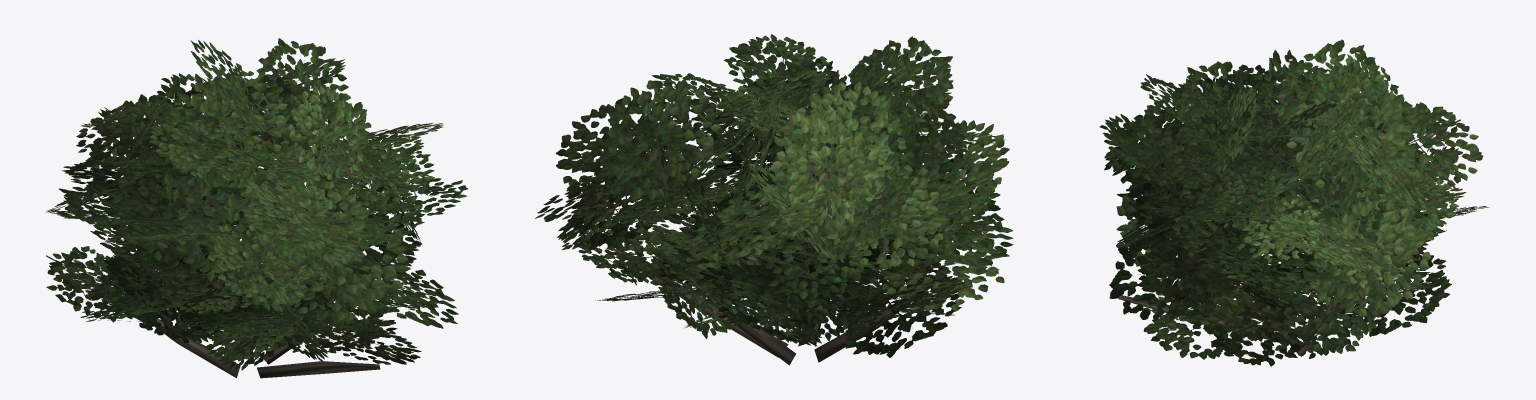
File: arbusto_buxinho_lod1.glb
3 renders of one model, left to right at view 1: azimuth 30°, elevation 25°; view 2: azimuth 150°, elevation 25°; view 3: azimuth 270°, elevation 25°, orthographic. The views are drawn at different scales.
Parts seen in each view (by area): view 1: arbusto_buxinho_lod1; view 2: arbusto_buxinho_lod1; view 3: arbusto_buxinho_lod1.
Boxes of the visible parts, left/top/right/bottom form: arbusto_buxinho_lod1: left=46, top=38, right=467, bottom=378; arbusto_buxinho_lod1: left=535, top=34, right=1013, bottom=365; arbusto_buxinho_lod1: left=1100, top=39, right=1489, bottom=366.
Bounding box in the file's own units: 1.31 × 0.8999 × 1.21.
Materials: 2 (2 with a texture image).
